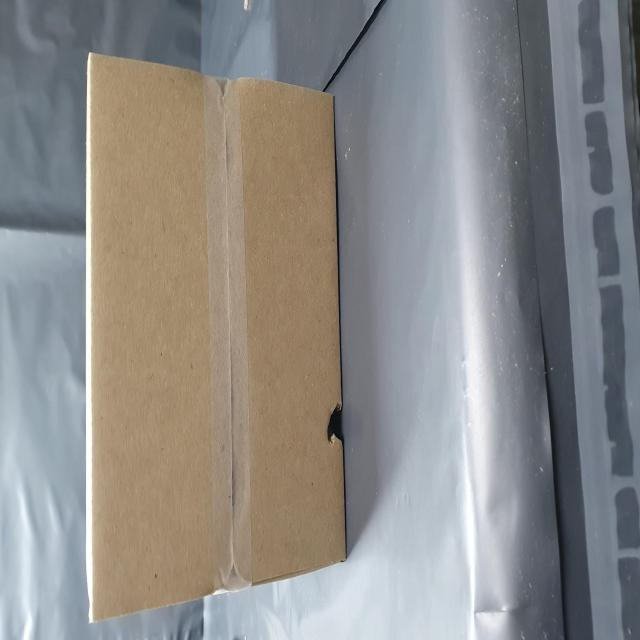damaged: (105, 560, 144, 614)
